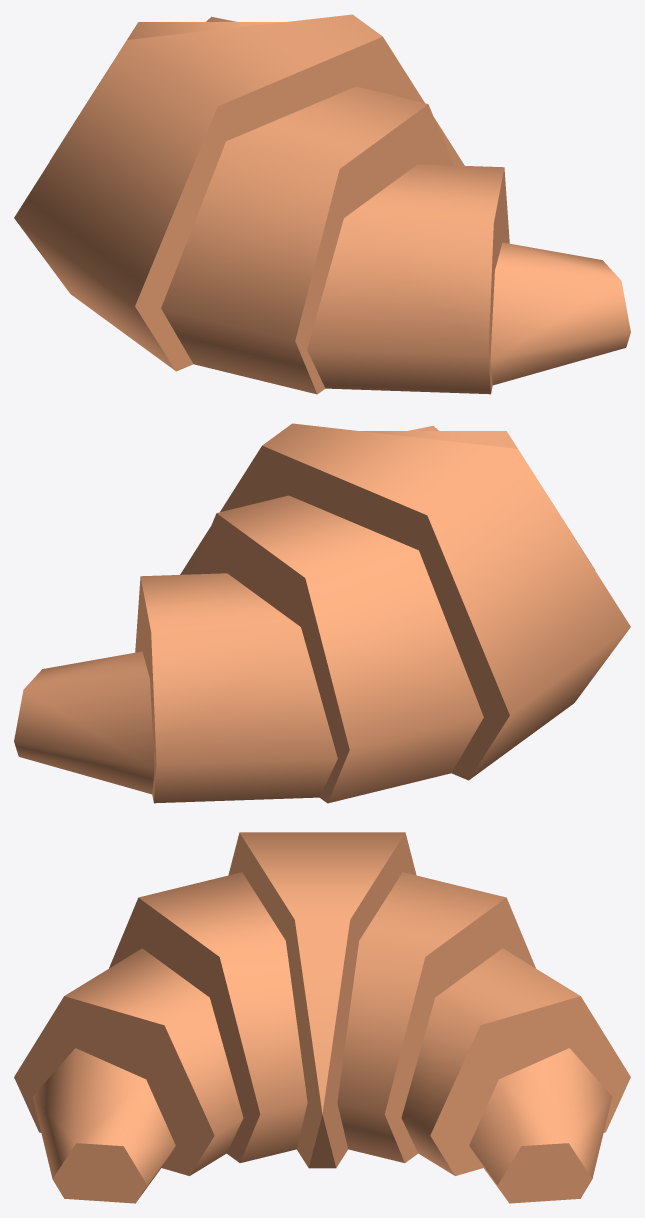
Rendered from croissant.obj.
3 renders of one model, top to bottom at view 1: azimuth 30°, elevation 25°; view 2: azimuth 150°, elevation 25°; view 3: azimuth 270°, elevation 25°, orthographic. The views are drawn at different scales.
Parts seen in each view (by area): view 1: croissant; view 2: croissant; view 3: croissant.
Boxes of the visible parts, left/top/right/bottom form: croissant: left=14, top=14, right=630, bottom=394; croissant: left=14, top=423, right=630, bottom=803; croissant: left=14, top=832, right=630, bottom=1203.
Bounding box in the file's own units: 0.3461 × 0.1936 × 0.4777.
